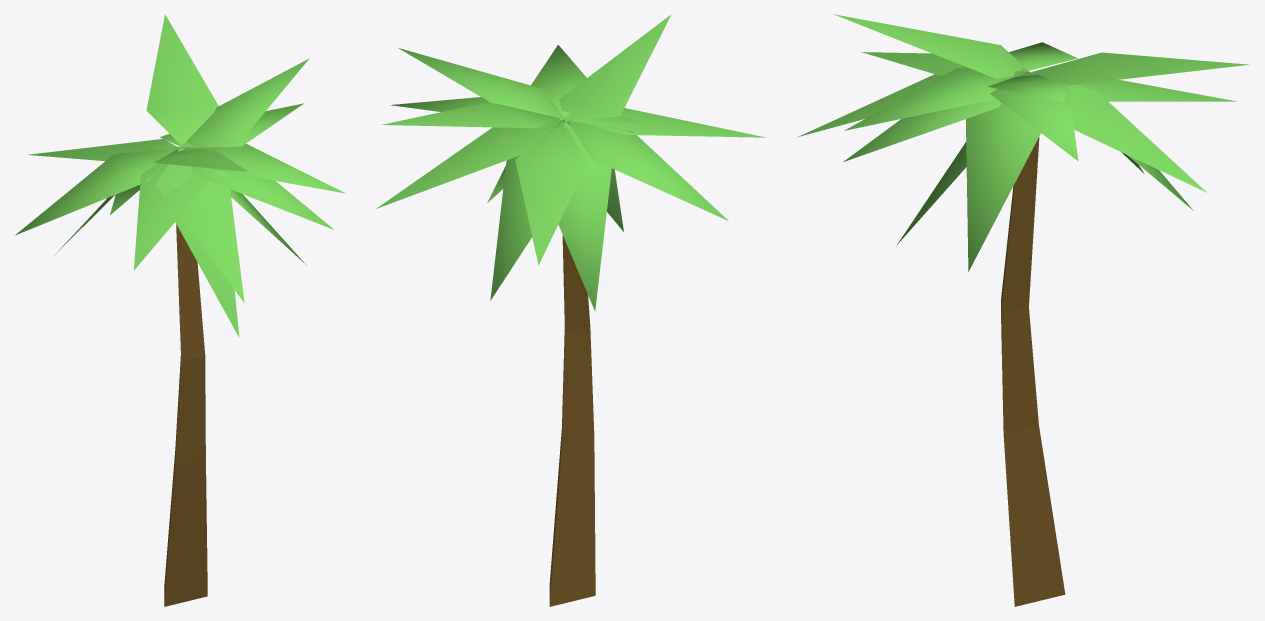
The model's file is palm tree curved LOD.fbx.
3 views of the same model, side by side, from view 1: azimuth 30°, elevation 25°; view 2: azimuth 150°, elevation 25°; view 3: azimuth 270°, elevation 25° (orthographic). The views are drawn at different scales.
Visible parts, largest first — view 1: LODLeaves, LODTrunk; view 2: LODLeaves, LODTrunk; view 3: LODLeaves, LODTrunk.
Boxes of the visible parts, bbox=[...] form: LODLeaves: bbox=[15, 14, 345, 337]; LODTrunk: bbox=[164, 224, 207, 606]; LODLeaves: bbox=[376, 14, 765, 311]; LODTrunk: bbox=[549, 235, 595, 606]; LODLeaves: bbox=[797, 14, 1248, 271]; LODTrunk: bbox=[1001, 137, 1065, 606].
Size of the model in its own units: 271 by 419 by 300.
